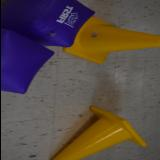cone: (50, 106, 148, 160), (62, 16, 160, 64)
cube: (0, 0, 94, 48), (0, 29, 54, 94)
